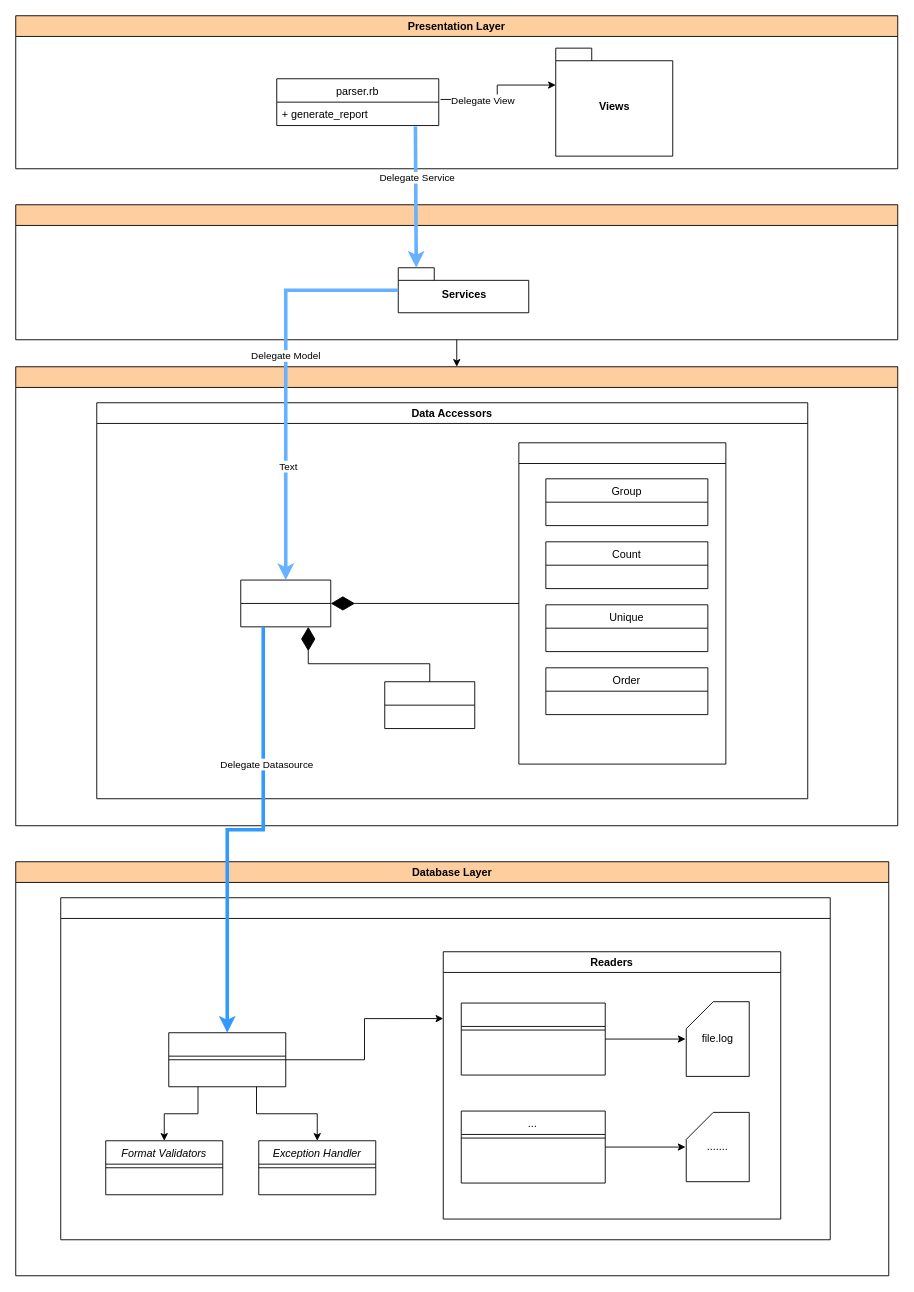
Image size: 914x1292. Some labels were removed from this diagram. Each missing label, with the box of its shape:
Business Layer: (15, 204, 898, 340)
Data Table: (240, 579, 331, 627)
Datasource: (60, 897, 830, 1240)
Delegator: (168, 1032, 286, 1087)
Persitance Layer: (15, 366, 898, 826)
Table Functions: (518, 442, 726, 764)
Table Row: (384, 681, 475, 729)
Web Page Log: (460, 1002, 605, 1075)
